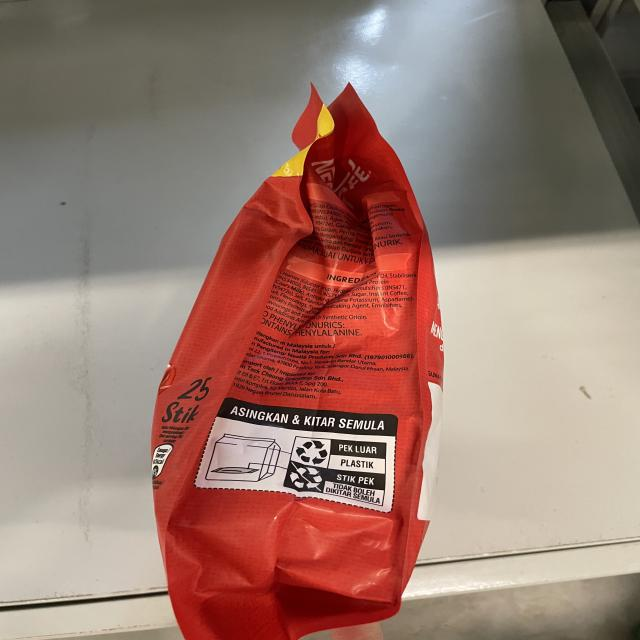object_name: (163, 87, 417, 639)
